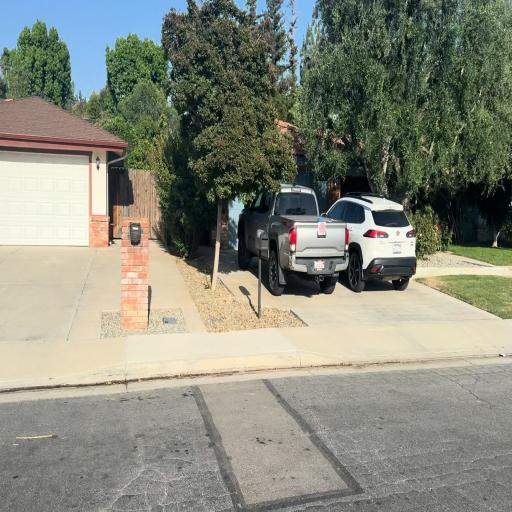bullseye: (319, 222, 326, 235)
